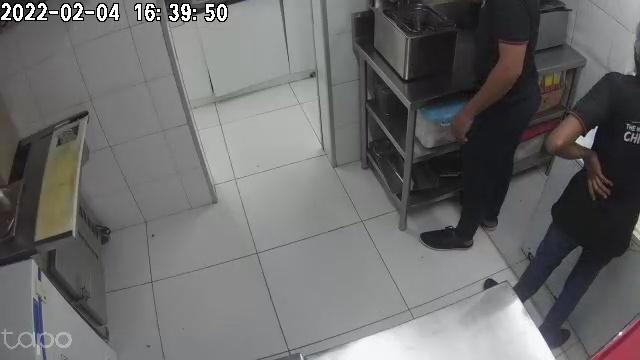no_gloves: (580, 147, 613, 200)
